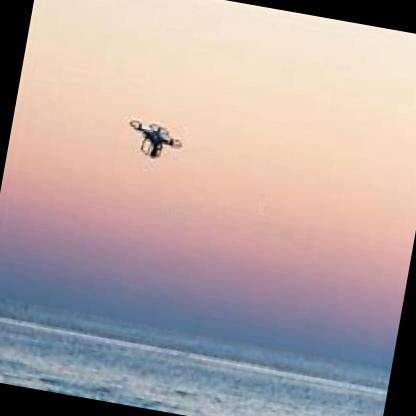drone: (121, 112, 192, 166)
